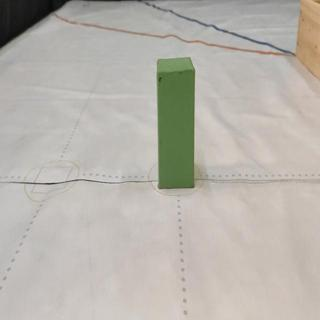greenbox: (158, 57, 196, 188)
